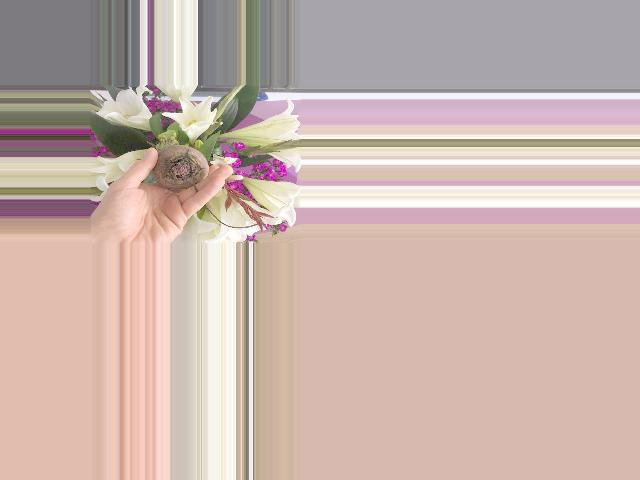beet: (153, 145, 210, 191)
